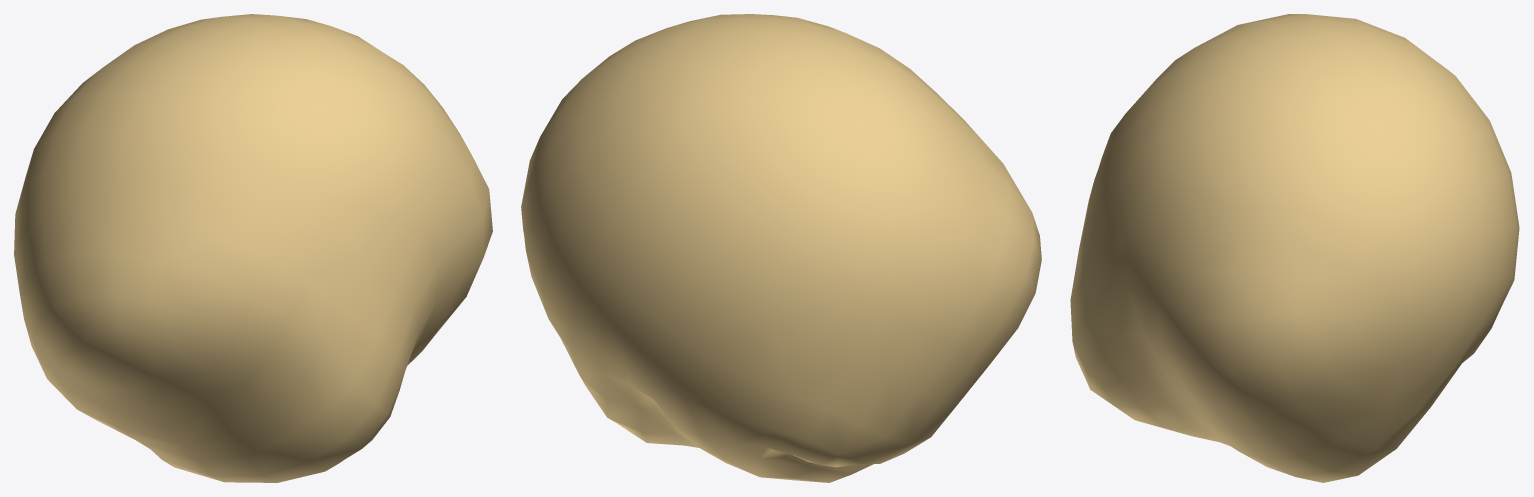
Rendered from Model_Hair_Extra_002_SpaceBuns.fbx.
3 views of the same model, side by side, from view 1: azimuth 30°, elevation 25°; view 2: azimuth 150°, elevation 25°; view 3: azimuth 270°, elevation 25° (orthographic). The views are drawn at different scales.
Parts seen in each view (by area): view 1: SpaceBuns; view 2: SpaceBuns; view 3: SpaceBuns.
Boxes of the visible parts, x1,y1,x2,y2 form: SpaceBuns: [14, 14, 492, 482]; SpaceBuns: [521, 14, 1041, 482]; SpaceBuns: [1070, 14, 1519, 482].
Bounding box in the file's own units: 83.94 × 73.67 × 72.63.
